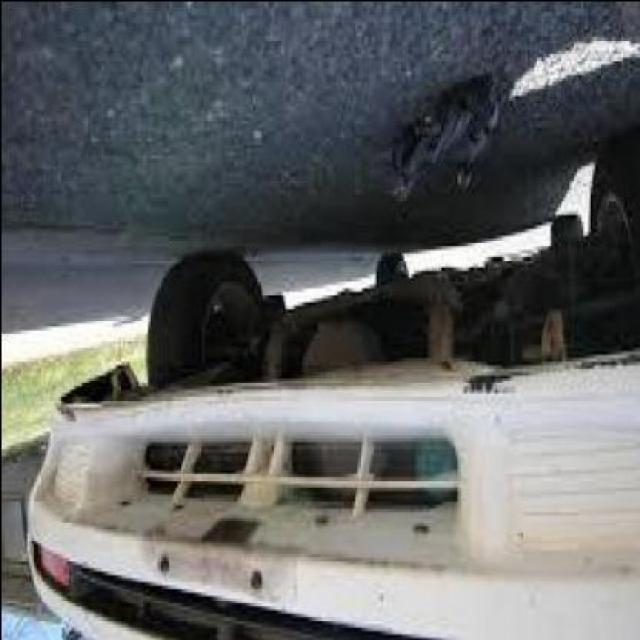damage: (139, 512, 300, 608), (461, 343, 640, 414)
